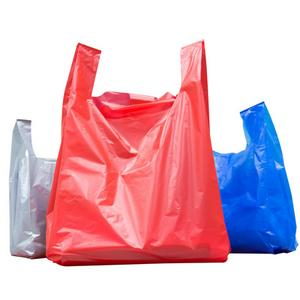LDPE: (43, 42, 231, 268), (206, 102, 298, 254), (8, 116, 62, 259)
